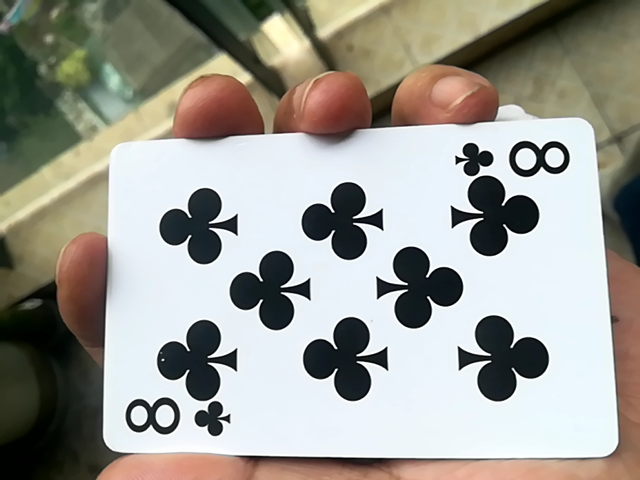mh 8: (97, 122, 614, 472)
